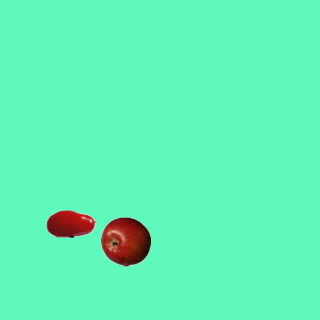Apple Braeburn: (100, 216, 150, 266)
Tomato 2: (45, 198, 95, 248)
